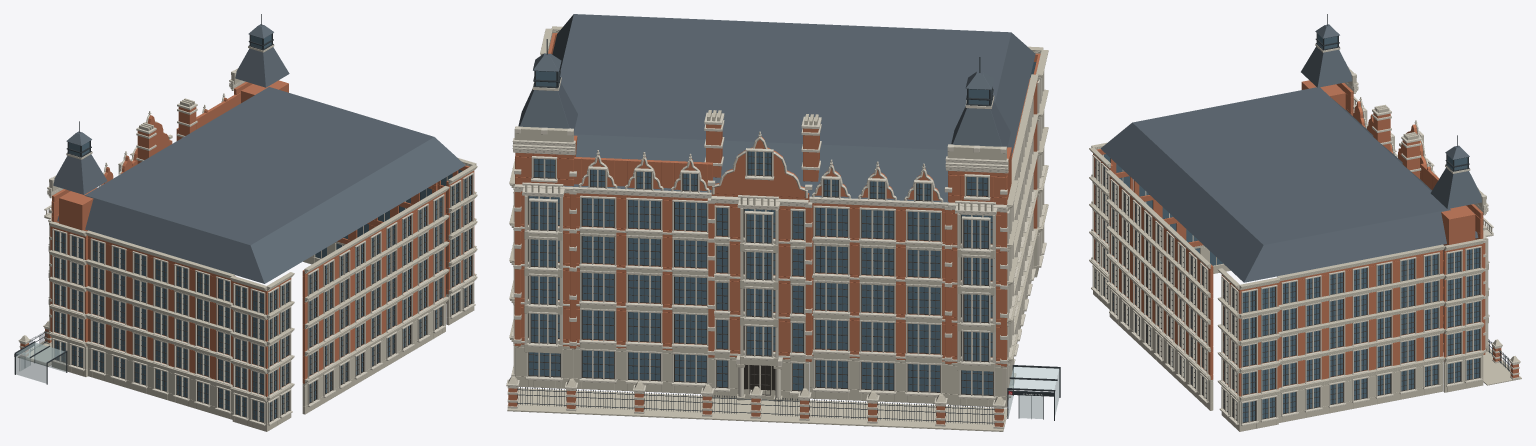
File: sal-exterior-3dc371649297.glb
The picture shows the model from 3 angles, left to right: view 1: azimuth 30°, elevation 25°; view 2: azimuth 150°, elevation 25°; view 3: azimuth 270°, elevation 25°; orthographic projection. The views are drawn at different scales.
Parts seen in each view (by area): view 1: SAL.001; view 2: SAL.001; view 3: SAL.001.
Part boxes in pixels (x1,y1,x2,y2): SAL.001: [14, 14, 477, 431]; SAL.001: [506, 14, 1060, 431]; SAL.001: [1089, 14, 1521, 431].
Bounding box in the file's own units: 68.1 × 38.24 × 61.14.
